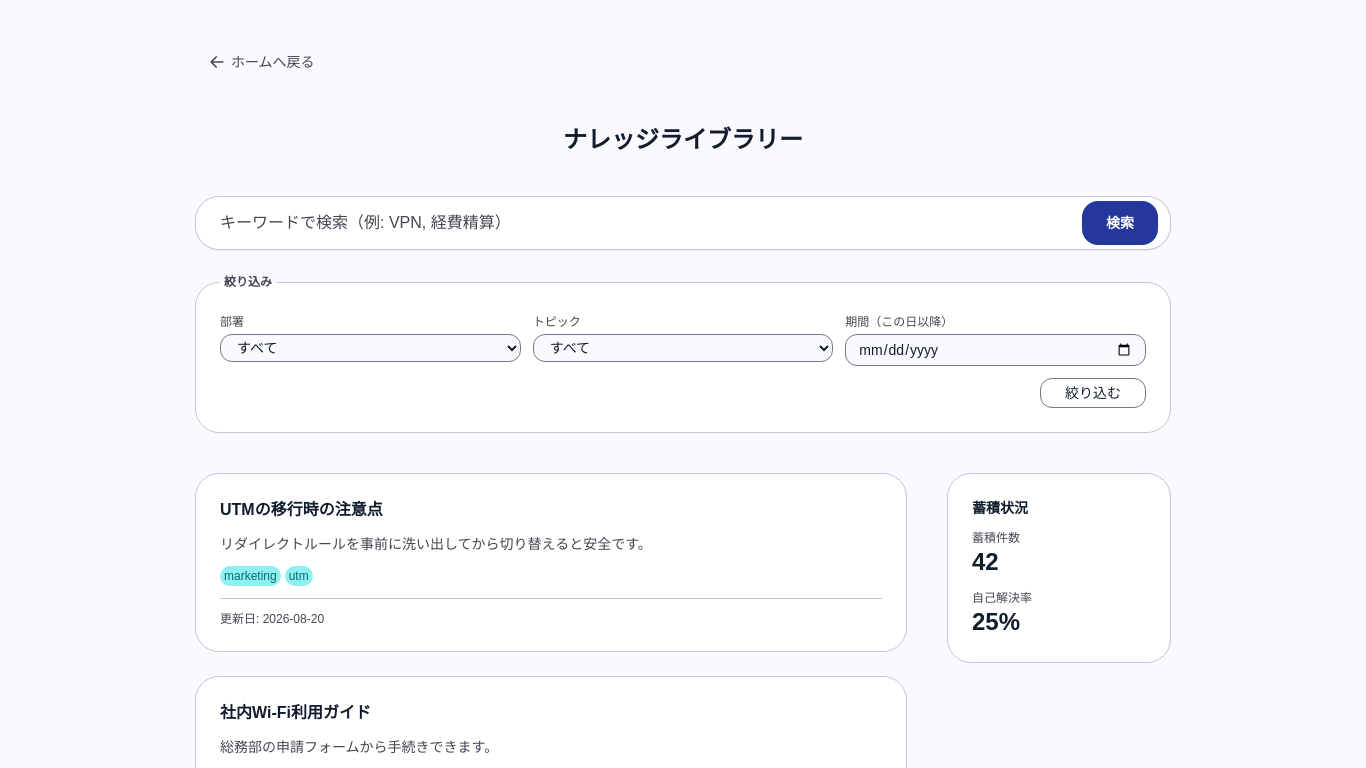
KnowledgeScreen › filters by department/topic/period via the form
Expected: the heading "UTMの移行時の注意点" is shown, 220,501 -> 383,518
Select "マーケティング部" in the dropdown labelled "部署" at (370, 348), box 220,334 -> 521,362
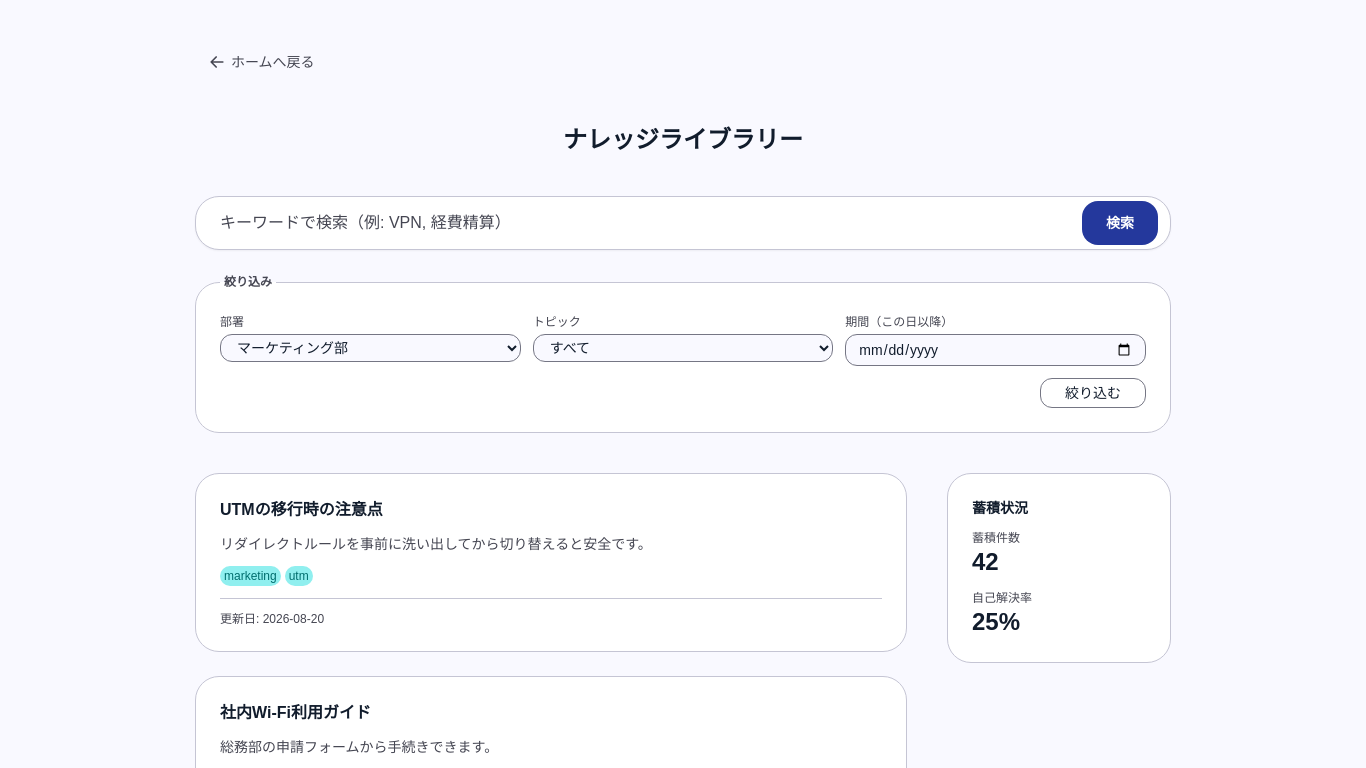
Select "utm" in the dropdown labelled "トピック" at (683, 348), box 533,334 -> 833,362
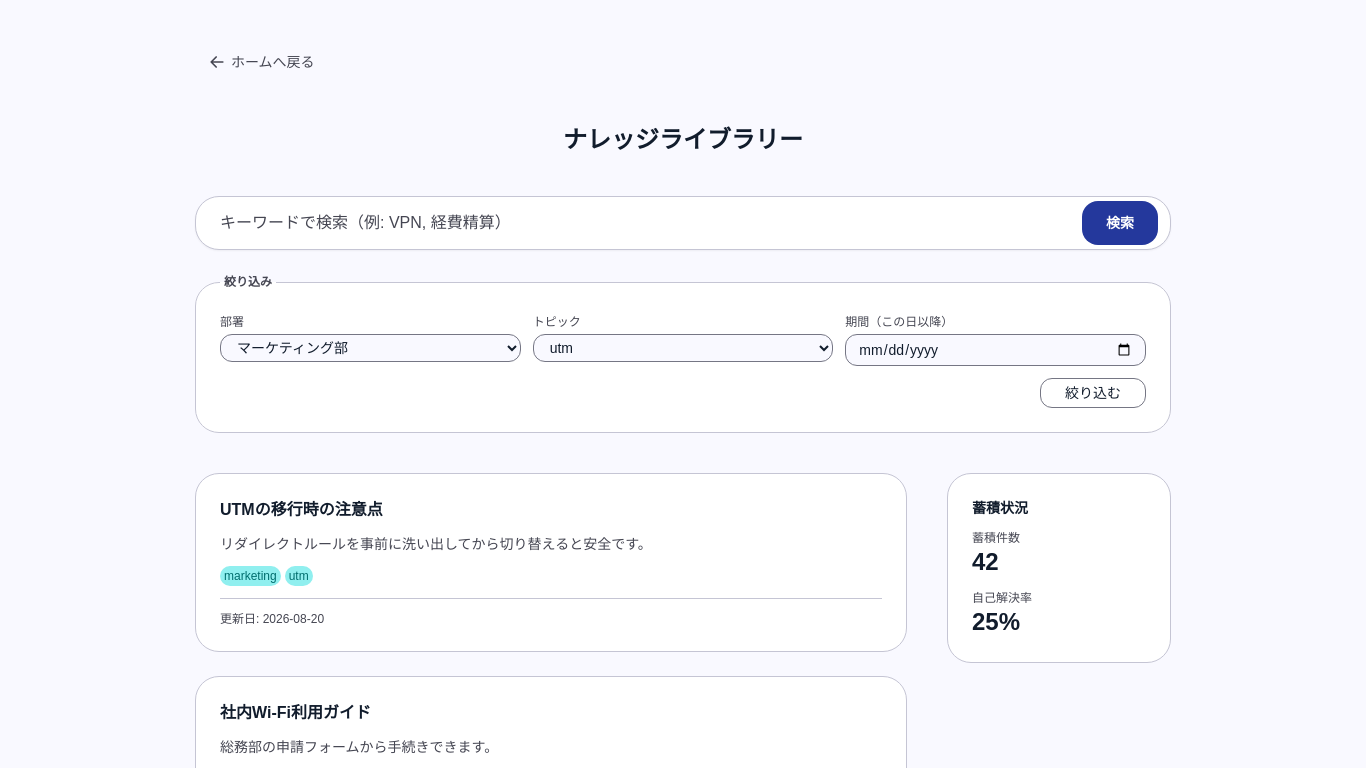
Type "2026-08-01" into the date field labelled "期間（この日以降）" at (996, 350), box 845,334 -> 1146,366
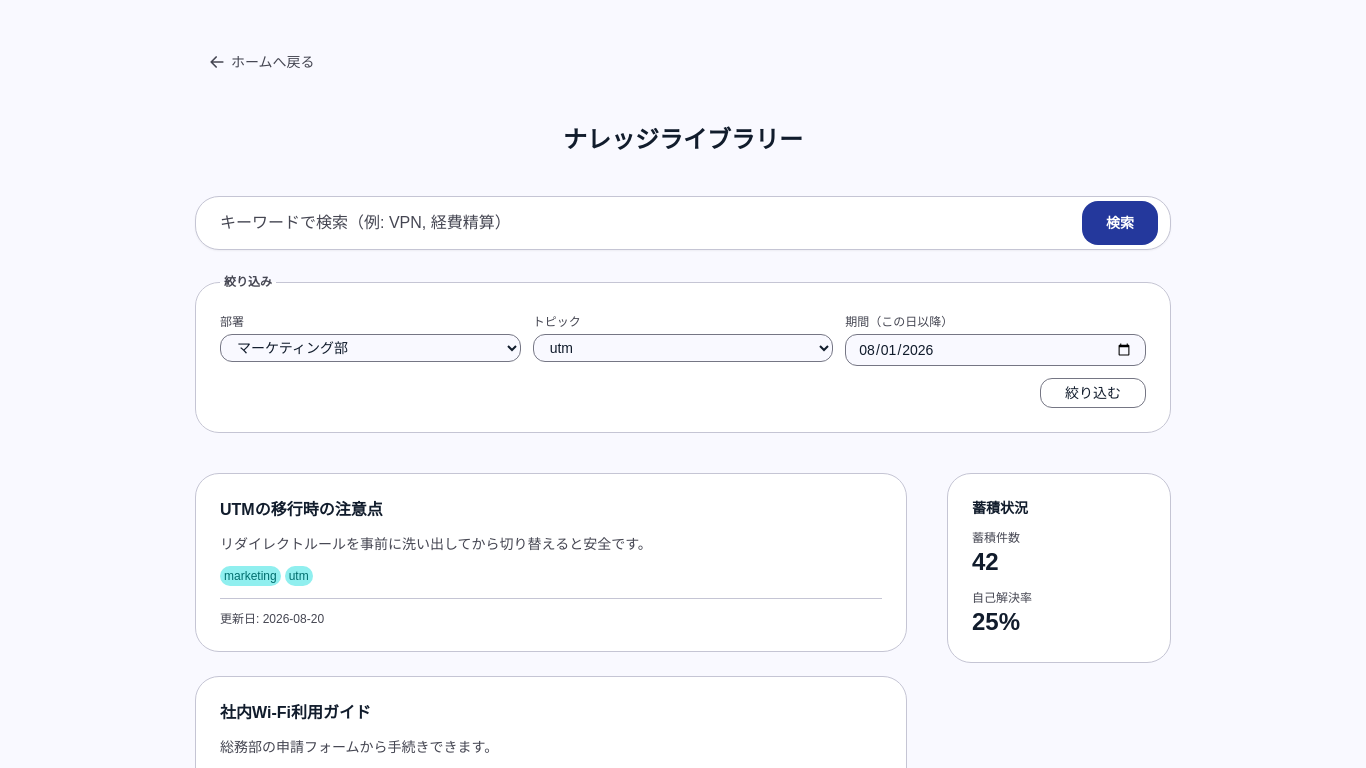
Click the button "検索" at (1120, 223), box 1082,201 -> 1158,245
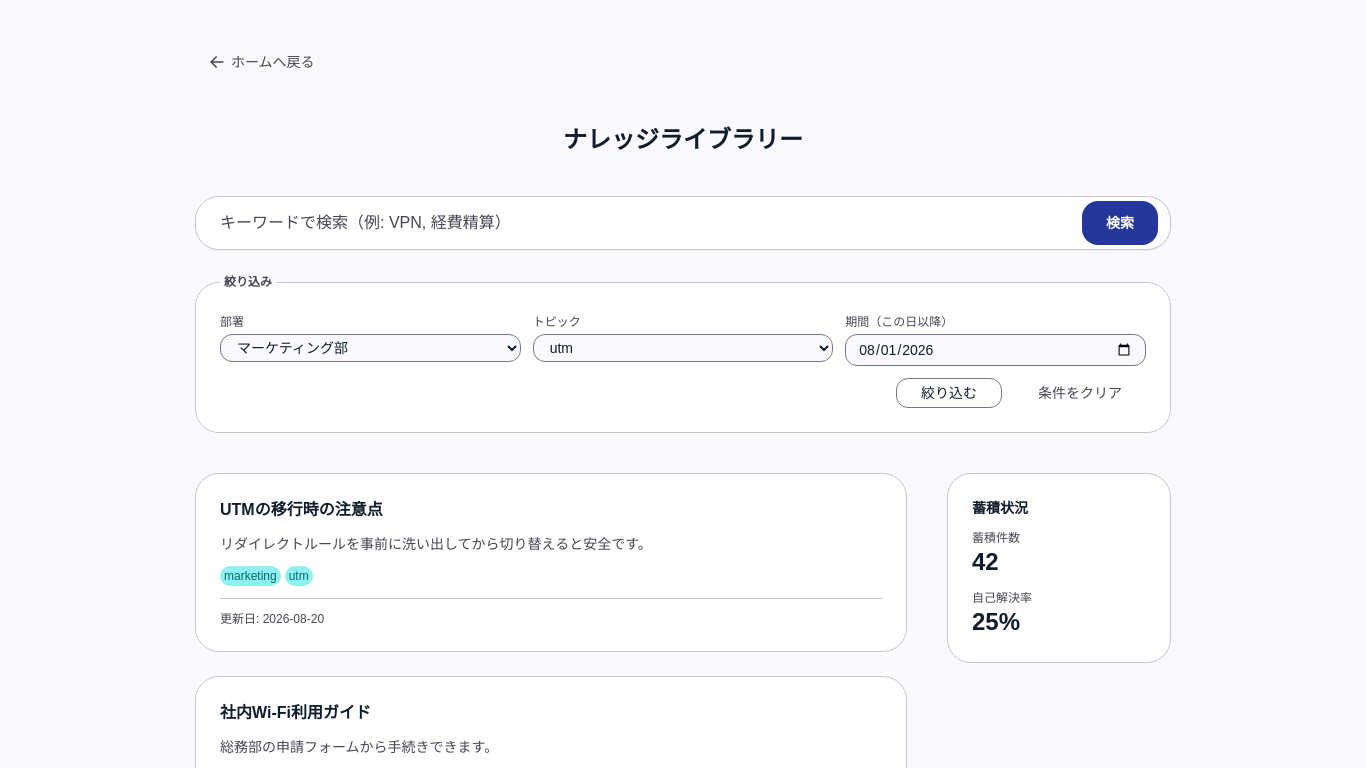
Click the button "条件をクリア" at (1080, 393), box 1014,379 -> 1146,407
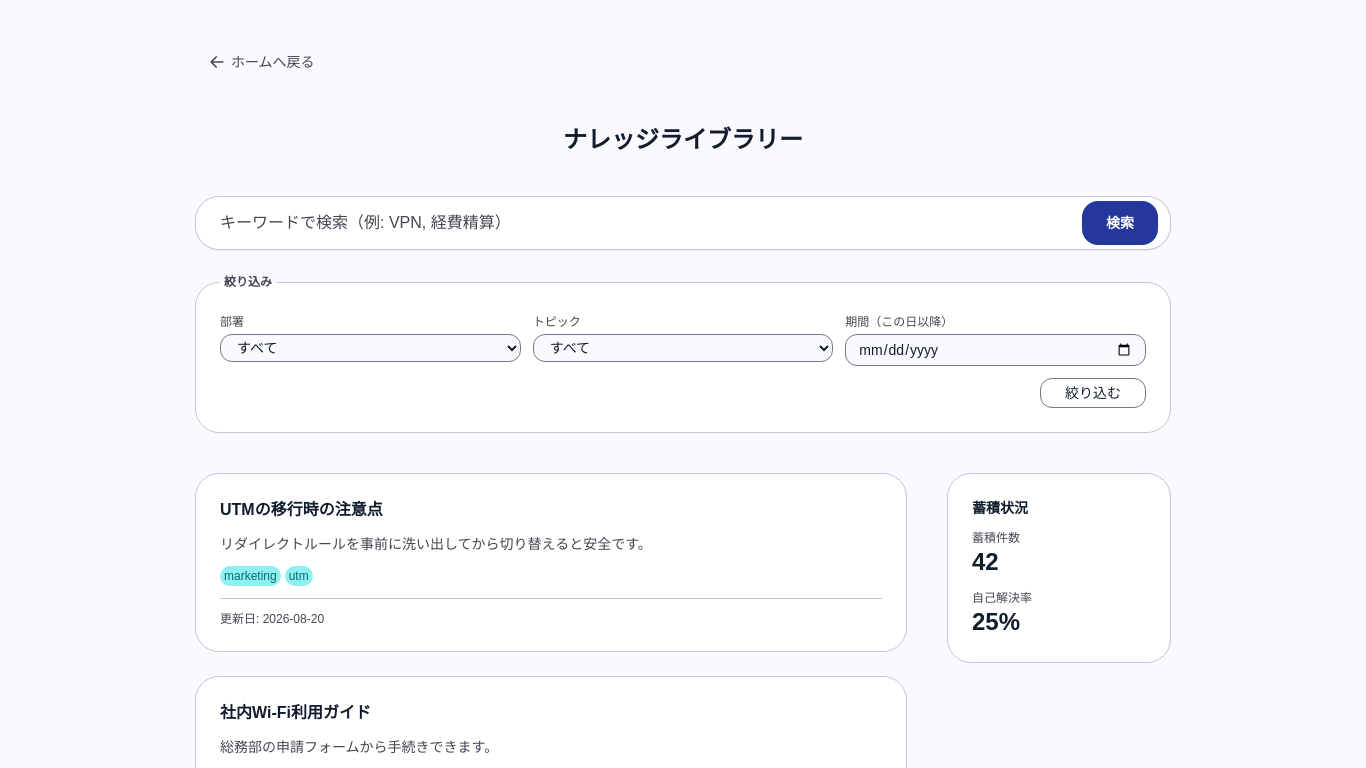
Expected: the button "条件をクリア" is gone
